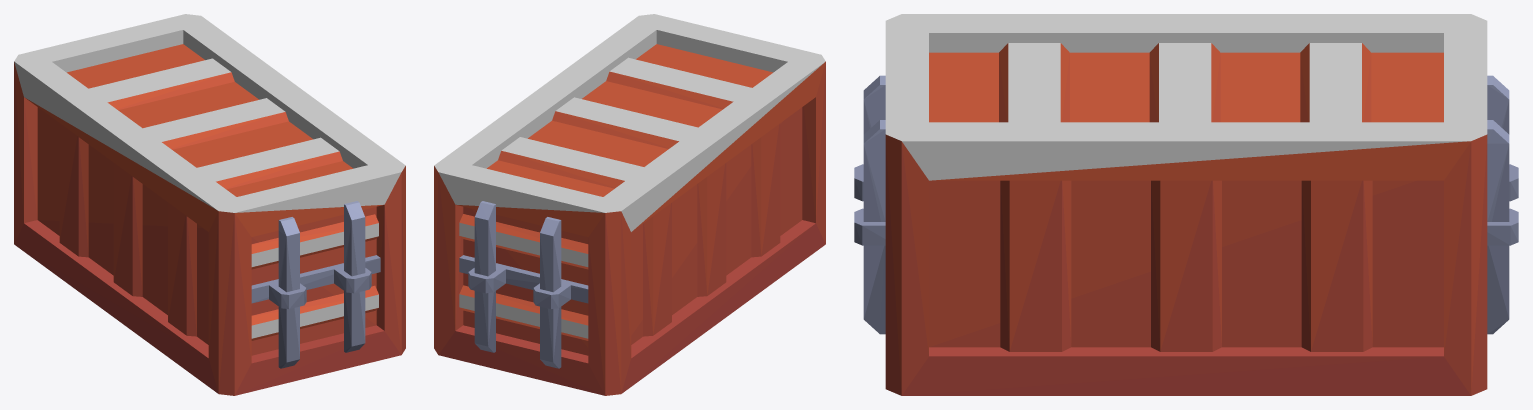
File: container.glb
The picture shows the model from 3 angles, left to right: view 1: azimuth 30°, elevation 25°; view 2: azimuth 150°, elevation 25°; view 3: azimuth 270°, elevation 25°; orthographic projection. The views are drawn at different scales.
Parts seen in each view (by area): view 1: body; view 2: body; view 3: body.
Part boxes in pixels (bbox=[...]): body: bbox=[14, 14, 405, 395]; body: bbox=[434, 14, 825, 395]; body: bbox=[854, 14, 1518, 395].
Size of the model in its own units: 2.76 by 2.58 by 6.1.
